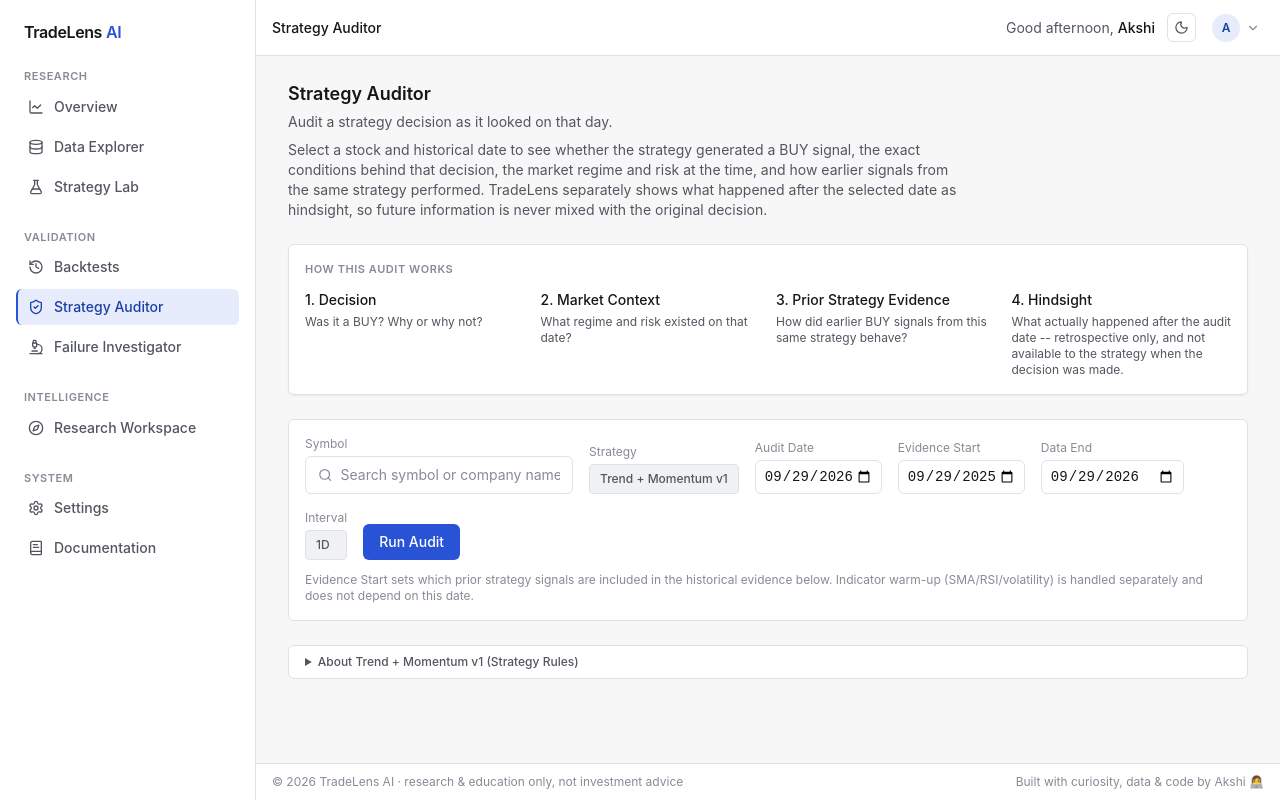
Scenario: Strategy Auditor introduction and education content › makes the Trend + Momentum v1 rules discoverable via a disclosure near the strategy control
Click the heading "About Trend + Momentum v1 (Strategy Rules)": click(448, 661) [318,654,579,668]
(page scrolled)
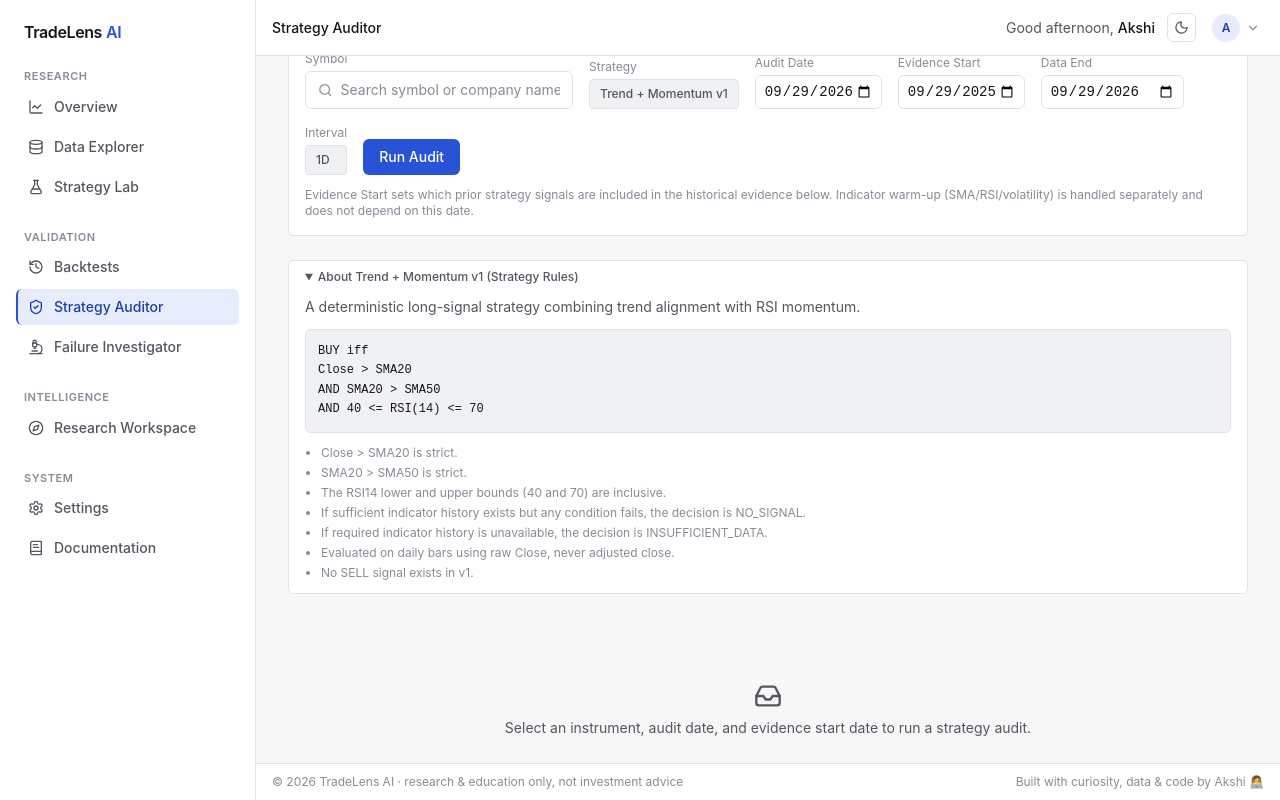
Expected: the text "Close > SMA20" is shown, [318,363,412,377]
Expected: the text "AND SMA20 > SMA50" is shown, [318,382,440,396]
Expected: the text "AND 40 <= RSI(14) <= 70" is shown, [318,402,484,416]
